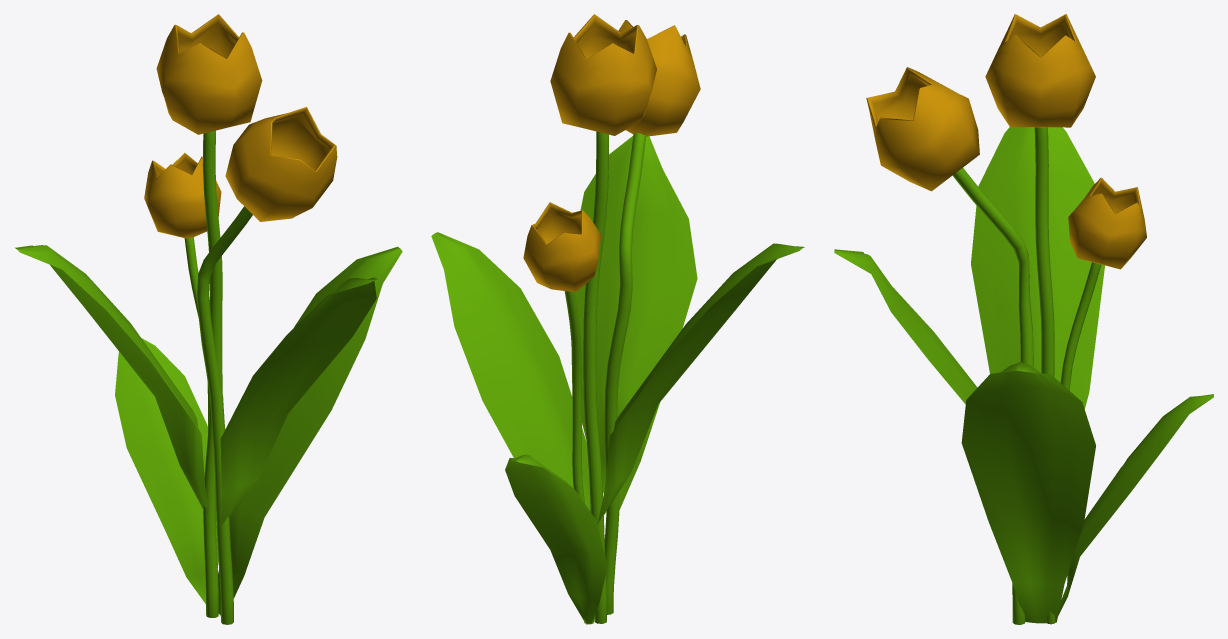
File: tulip_cluster.fbx
3 renders of one model, left to right at view 1: azimuth 30°, elevation 25°; view 2: azimuth 150°, elevation 25°; view 3: azimuth 270°, elevation 25°, orthographic.
Visible parts, largest first — view 1: pPlane4; view 2: pPlane4; view 3: pPlane4.
Boxes of the visible parts, left/top/right/bottom form: pPlane4: left=15, top=14, right=402, bottom=624; pPlane4: left=431, top=14, right=804, bottom=624; pPlane4: left=834, top=14, right=1213, bottom=624.
Size of the model in its own units: 2 by 3.01 by 1.74.
